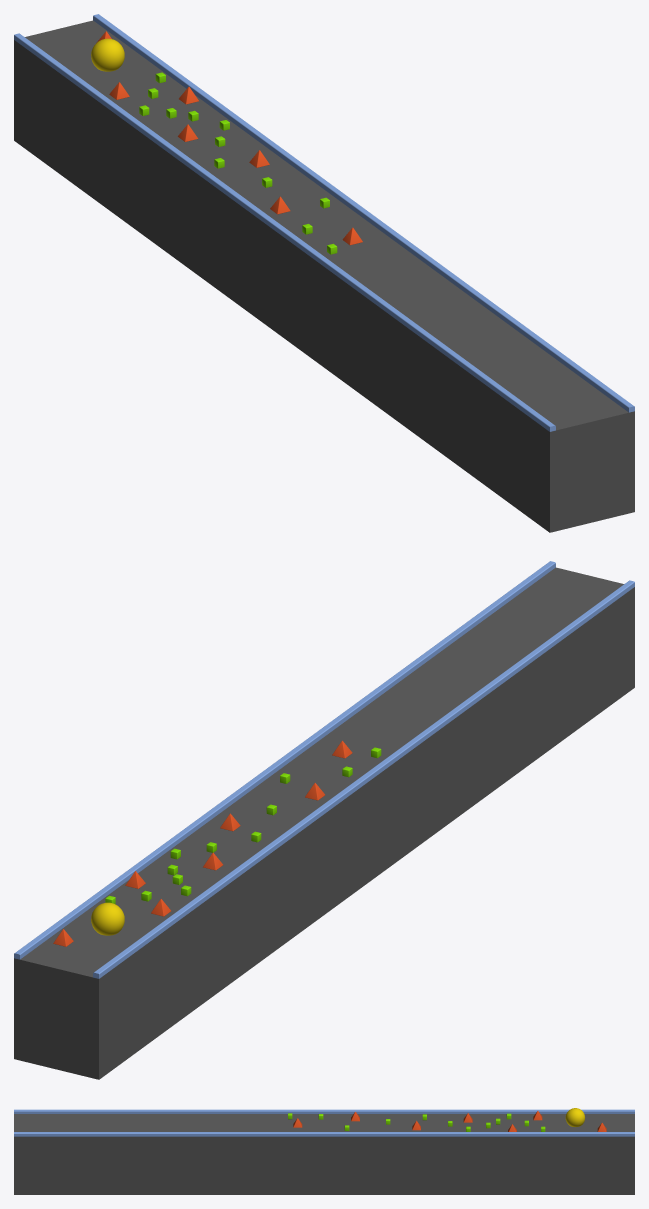
File: level.fbx
3 views of the same model, one above another, from view 1: azimuth 30°, elevation 25°; view 2: azimuth 150°, elevation 25°; view 3: azimuth 270°, elevation 25° (orthographic). The views are drawn at different scales.
Parts seen in each view (by area): view 1: Ground, Sphere; view 2: Ground, Sphere; view 3: Ground, Sphere.
Boxes of the visible parts, x1,y1,x2,y2 form: Ground: (14,14,634,532); Sphere: (91,38,124,71); Ground: (14,561,634,1079); Sphere: (91,902,124,935); Ground: (14,1109,634,1194); Sphere: (565,1108,585,1127).
Bounding box in the file's own units: 9.77 × 14 × 106.
